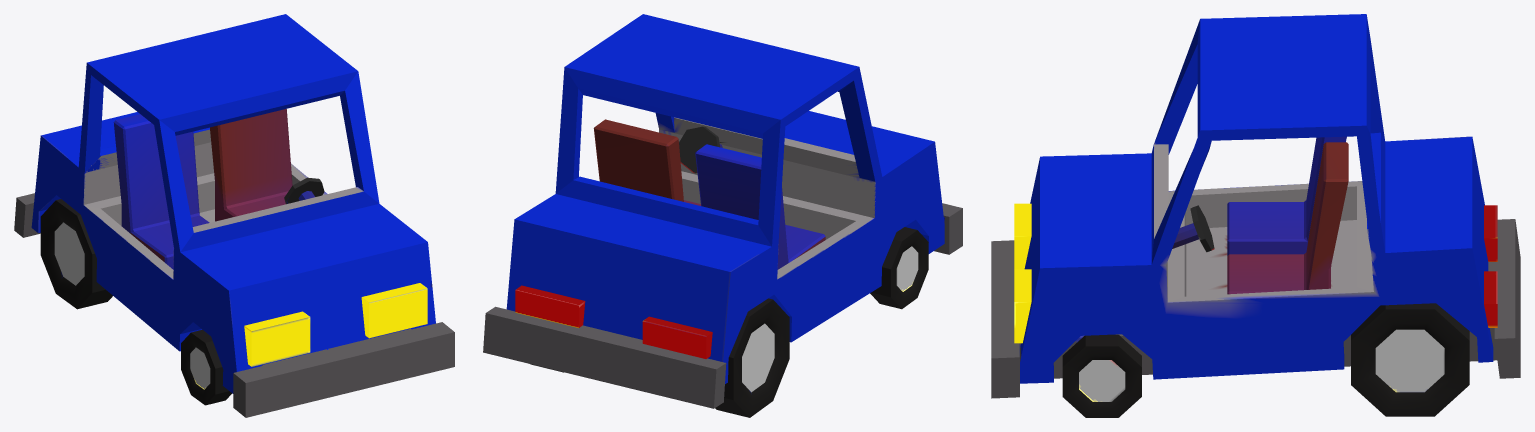
The model's file is Golf car.fbx.
The picture shows the model from 3 angles, left to right: view 1: azimuth 30°, elevation 25°; view 2: azimuth 150°, elevation 25°; view 3: azimuth 270°, elevation 25°; orthographic projection. The views are drawn at different scales.
Parts seen in each view (by area): view 1: Golf car; view 2: Golf car; view 3: Golf car.
Boxes of the visible parts, x1,y1,x2,y2 form: Golf car: [14, 14, 454, 417]; Golf car: [483, 14, 962, 417]; Golf car: [991, 14, 1520, 417].
Size of the model in its own units: 177 by 201 by 332.
1 material, 1 textured.
